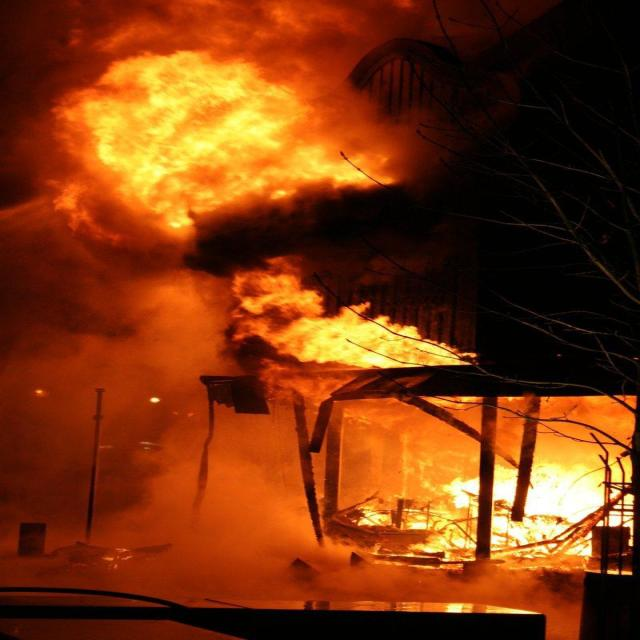fire: (39, 48, 402, 234), (347, 452, 631, 580), (210, 252, 483, 372)
other: (191, 590, 550, 621)
